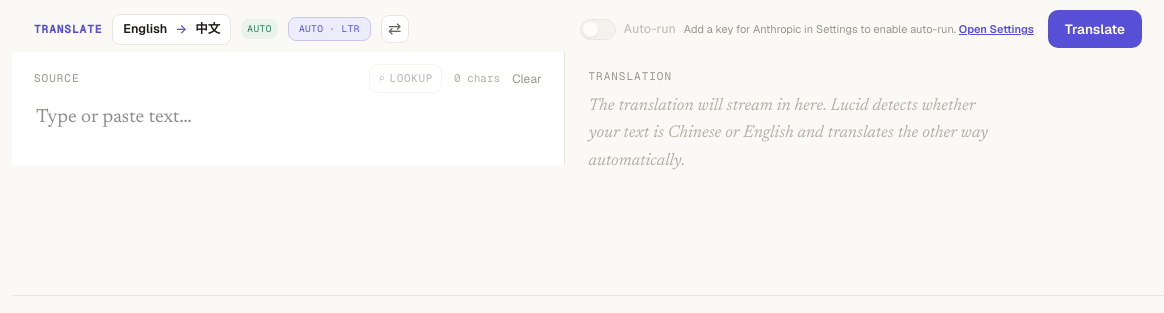
TranslatePanel › detects the direction live from the source text
The width and height of the screenshot is (1164, 313).
In the text box named "Source": [288, 129] box top-left (12, 101), bottom-right (564, 158), type "你好"
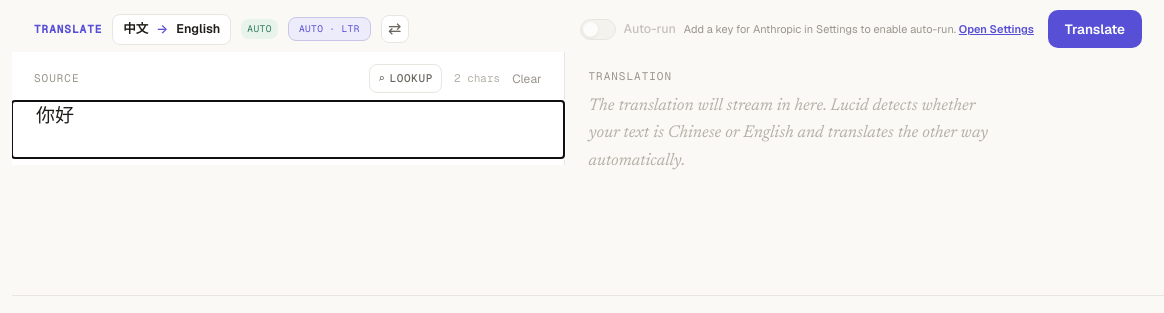
Result: the text "中文" is shown at top-left (123, 20), bottom-right (148, 39)
Result: the text "English" is shown at top-left (176, 20), bottom-right (220, 39)
